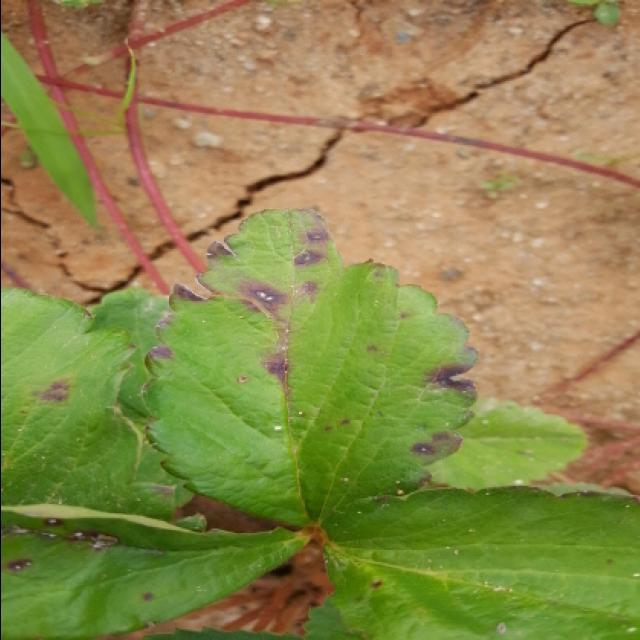Leaf Spot: (138, 206, 479, 530), (2, 284, 208, 531), (318, 485, 640, 638), (2, 502, 312, 638)
